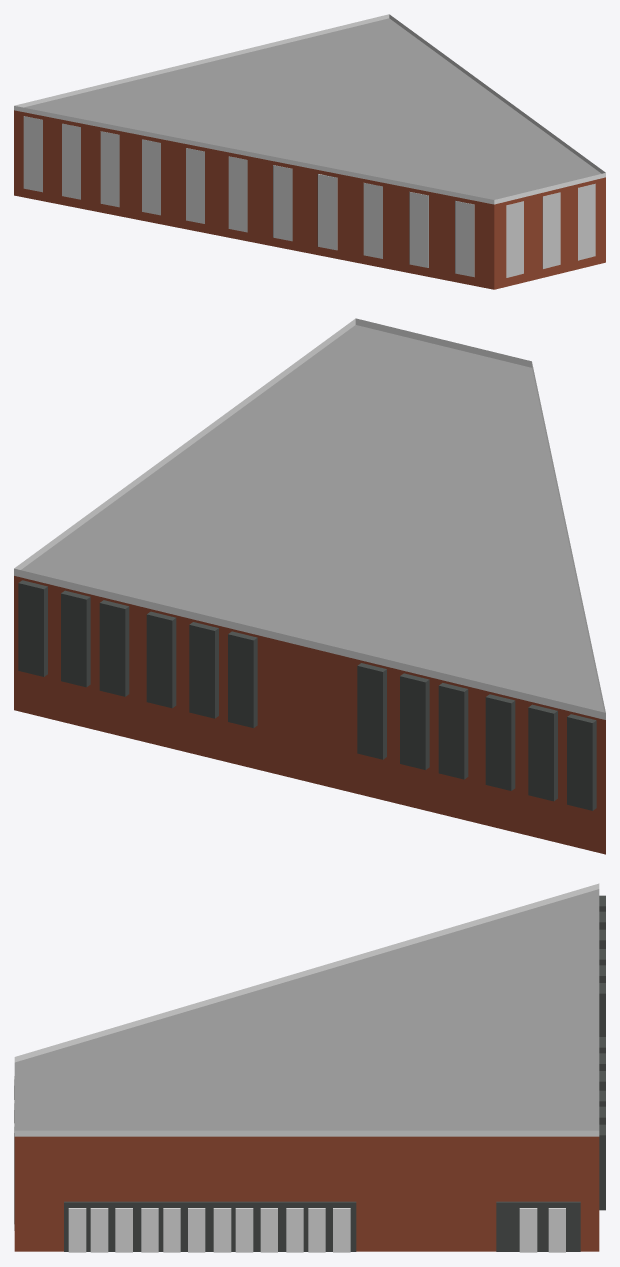
The model's file is library.glb.
The picture shows the model from 3 angles, top to bottom: view 1: azimuth 30°, elevation 25°; view 2: azimuth 150°, elevation 25°; view 3: azimuth 270°, elevation 25°; orthographic projection. The views are drawn at different scales.
Visible parts, largest first — view 1: Cube, Cube.043, Cube.033, Cube.035, Cube.036, Cube.040, Cube.025, Cube.026, Cube.037, Cube.042, Cube.034, Cube.041 (+5 smaller); view 2: Cube, Cube.043, Cube.033, Cube.049, Cube.056, Cube.052, Cube.053, Cube.047, Cube.048, Cube.050, Cube.051, Cube.054 (+3 smaller); view 3: Cube, Cube.043, Cube.033, Cube.061, Cube.062, Cube.063, Cube.073, Cube.076, Cube.077, Cube.078, Cube.066, Cube.067 (+8 smaller).
Part boxes in pixels (x1,y1,x2,y2): Cube: [24, 18, 601, 199]; Cube.043: [14, 110, 605, 289]; Cube.033: [14, 14, 605, 204]; Cube.035: [318, 174, 337, 250]; Cube.036: [273, 165, 292, 241]; Cube.040: [100, 131, 119, 207]; Cube.025: [455, 201, 474, 277]; Cube.026: [409, 192, 428, 267]; Cube.037: [228, 156, 247, 232]; Cube.042: [23, 116, 42, 192]; Cube.034: [363, 183, 382, 258]; Cube.041: [62, 123, 80, 199]; Cube: [21, 325, 604, 712]; Cube.043: [14, 576, 605, 854]; Cube.033: [14, 318, 605, 719]; Cube.049: [485, 694, 515, 790]; Cube.056: [146, 611, 176, 708]; Cube.052: [438, 683, 468, 779]; Cube.053: [99, 600, 129, 696]; Cube.047: [567, 714, 596, 810]; Cube.048: [528, 704, 557, 801]; Cube.050: [357, 663, 386, 759]; Cube.051: [400, 673, 429, 769]; Cube.054: [61, 590, 90, 687]; Cube: [14, 889, 599, 1130]; Cube.043: [14, 1136, 599, 1251]; Cube.033: [14, 883, 599, 1136]; Cube.061: [64, 1201, 356, 1251]; Cube.062: [496, 1201, 580, 1251]; Cube.063: [68, 1208, 86, 1252]; Cube.073: [90, 1208, 108, 1252]; Cube.076: [235, 1208, 253, 1252]; Cube.077: [213, 1208, 231, 1252]; Cube.078: [519, 1208, 537, 1252]; Cube.066: [188, 1208, 205, 1252]; Cube.067: [163, 1208, 180, 1252].
Bounding box in the file's own units: 1.04 × 0.2355 × 1.04.
